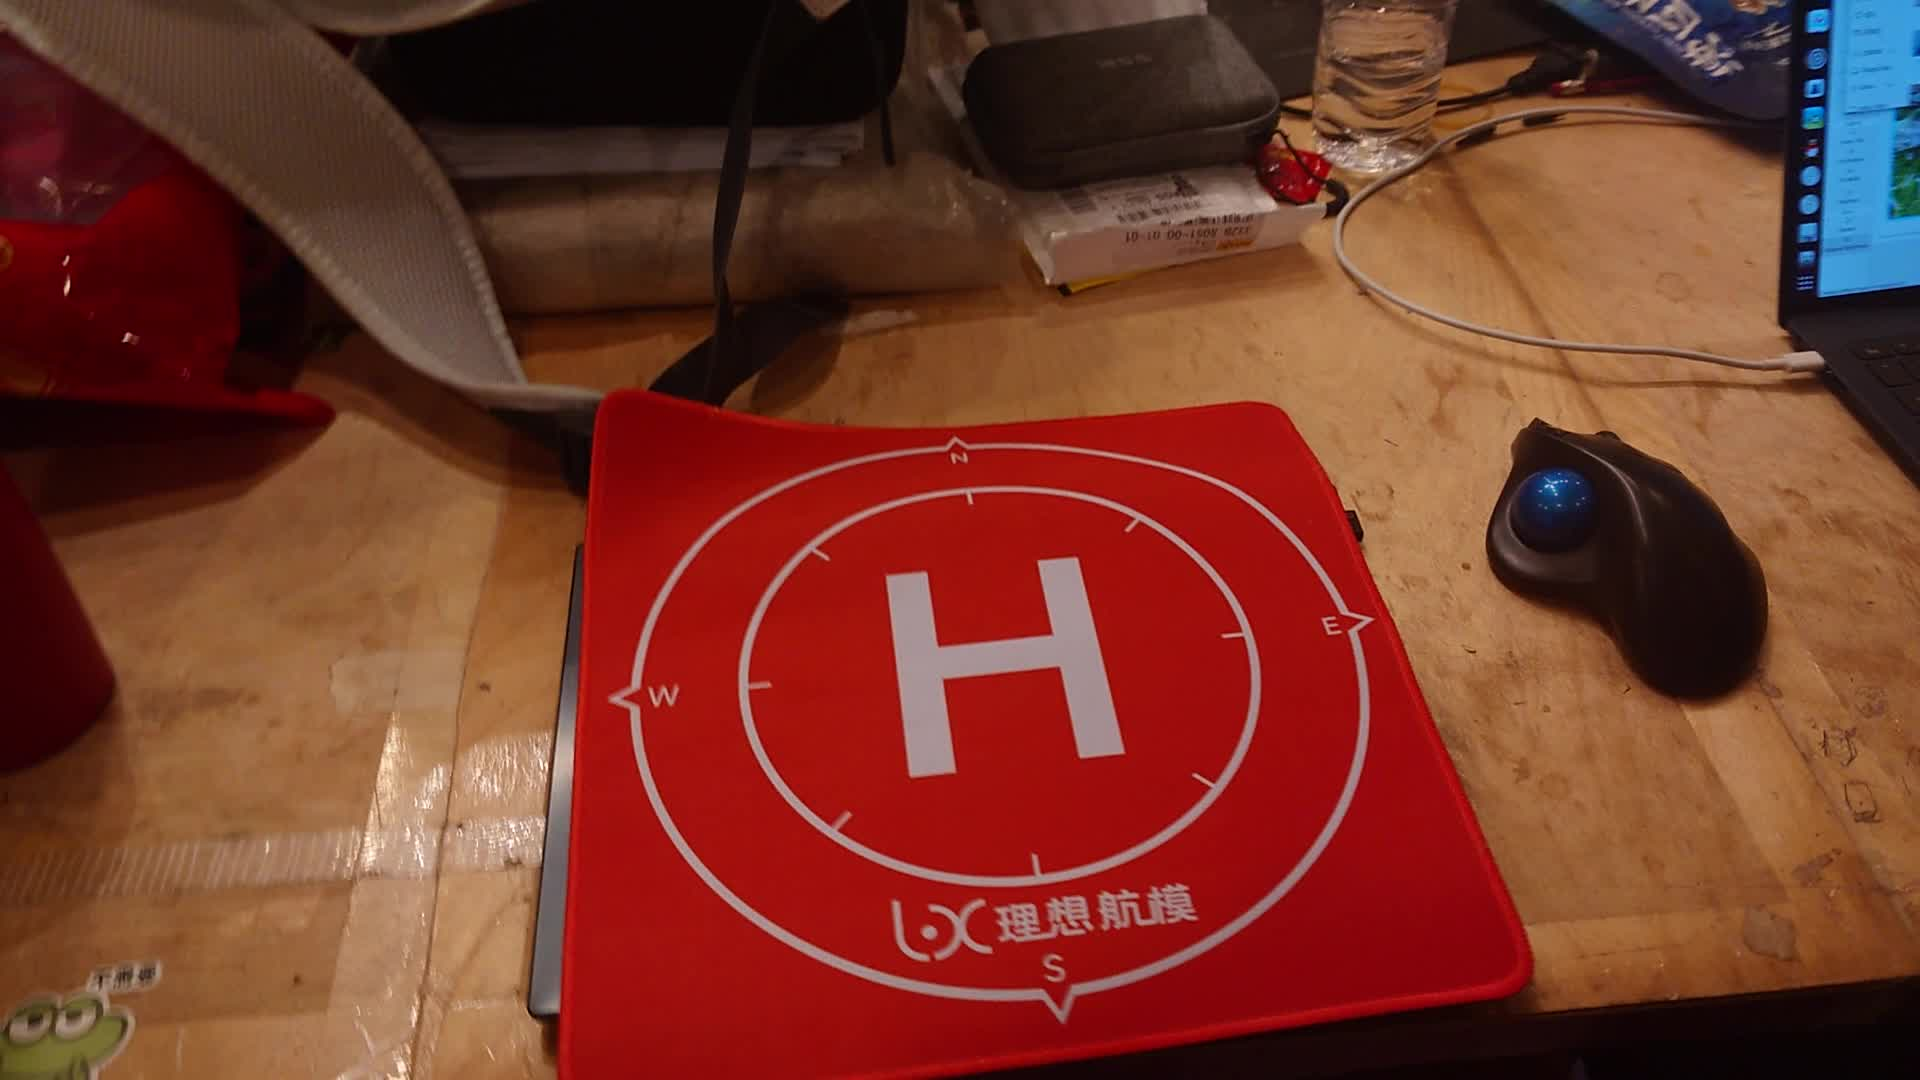H: (884, 556, 1127, 779)
